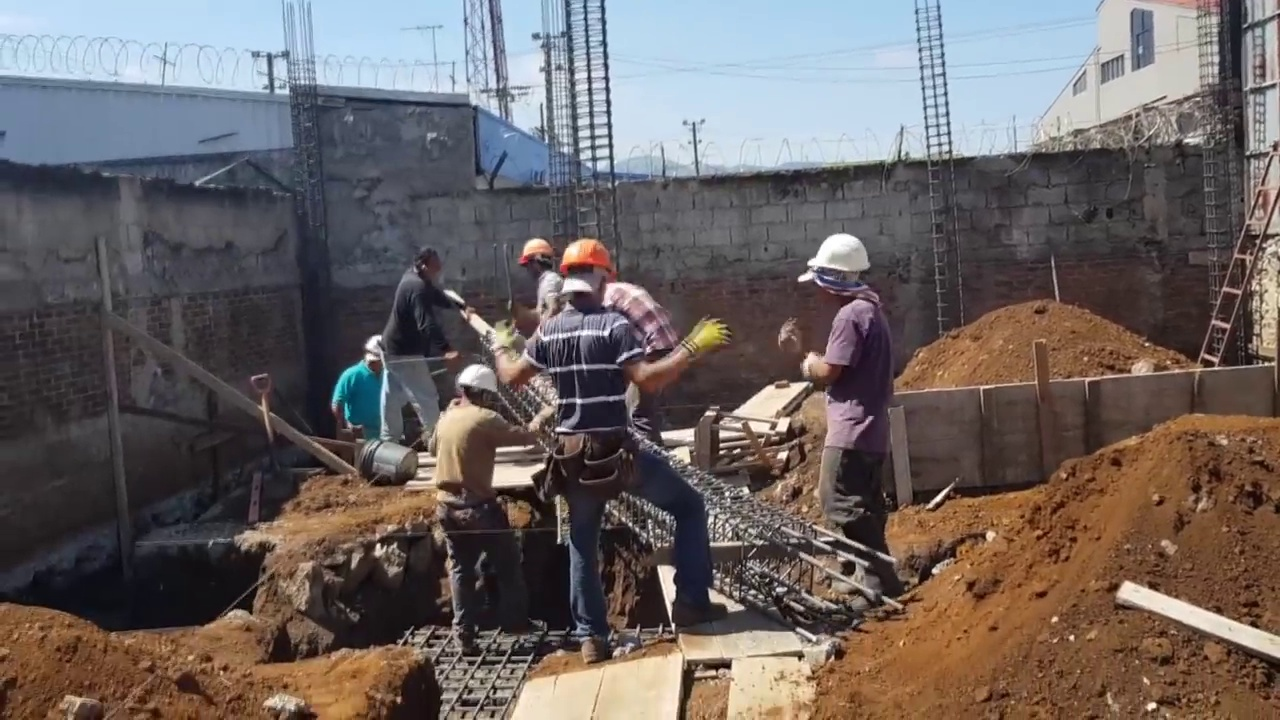helmet: (800, 235, 871, 282), (560, 240, 613, 280), (459, 363, 498, 395), (520, 240, 549, 262), (364, 334, 384, 357)
helmet-off: (405, 248, 438, 284)
helmet-on: (800, 232, 872, 313), (562, 241, 611, 307), (450, 362, 498, 409), (518, 240, 554, 280), (360, 333, 385, 377)
person: (531, 243, 714, 660), (800, 238, 898, 636), (435, 363, 557, 653), (384, 248, 477, 454), (326, 334, 402, 442), (604, 282, 682, 358), (508, 240, 560, 326)
